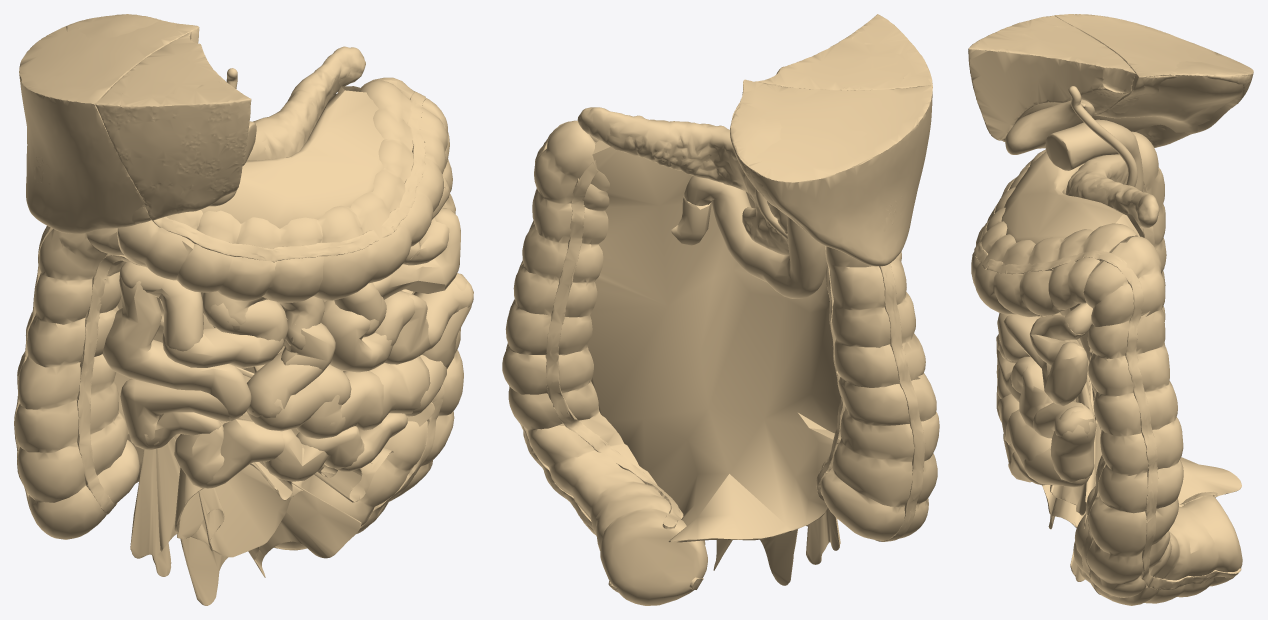
Rendered from digestif-abdomen.hi.glb.
3 views of the same model, side by side, from view 1: azimuth 30°, elevation 25°; view 2: azimuth 150°, elevation 25°; view 3: azimuth 270°, elevation 25° (orthographic). The views are drawn at different scales.
Visible parts, largest first — view 1: FJ2572, FJ2566, FJ3396, FJ2409, FJ2821, FJ3398, FJ2621, FJ2567, FJ2570, FJ2568, FJ1895, FJ2574 (+27 smaller); view 2: FJ3398, FJ2567, FJ2409, FJ2566, FJ2821, FJ2573, FJ2569, FJ1895, FJ2629, FJ2570, FJ2822, FJ3396 (+1 smaller); view 3: FJ2567, FJ2821, FJ2409, FJ2572, FJ3398, FJ2570, FJ2623, FJ2573, FJ2822, FJ3396, FJ1895, FJ2817 (+17 smaller).
Part boxes in pixels (<box>): FJ2572: <box>117,80,447,302</box>; FJ2566: <box>14,228,139,539</box>; FJ3396: <box>130,289,434,605</box>; FJ2409: <box>19,16,199,233</box>; FJ2821: <box>95,31,251,220</box>; FJ3398: <box>114,86,384,483</box>; FJ2621: <box>102,271,251,420</box>; FJ2567: <box>275,77,463,548</box>; FJ2570: <box>14,91,425,511</box>; FJ2568: <box>76,254,444,550</box>; FJ1895: <box>247,47,365,160</box>; FJ2574: <box>120,379,242,449</box>; FJ3398: <box>588,139,841,542</box>; FJ2567: <box>502,121,707,605</box>; FJ2409: <box>732,79,932,266</box>; FJ2566: <box>820,246,939,540</box>; FJ2821: <box>755,14,932,90</box>; FJ2573: <box>683,176,826,298</box>; FJ2569: <box>545,160,845,529</box>; FJ1895: <box>577,107,789,255</box>; FJ2629: <box>580,107,789,255</box>; FJ2570: <box>506,120,925,592</box>; FJ2822: <box>730,86,902,242</box>; FJ3396: <box>713,508,840,585</box>; FJ2567: <box>1073,236,1242,605</box>; FJ2821: <box>968,15,1135,141</box>; FJ2409: <box>1054,14,1253,138</box>; FJ2572: <box>971,149,1137,316</box>; FJ3398: <box>1001,151,1241,504</box>; FJ2570: <box>974,160,1241,589</box>; FJ2623: <box>1003,314,1087,405</box>; FJ2573: <box>1045,119,1143,191</box>; FJ2822: <box>1112,36,1251,147</box>; FJ3396: <box>1037,309,1101,581</box>; FJ1895: <box>1066,154,1159,226</box>; FJ2817: <box>1005,99,1094,154</box>.
Size of the model in its own units: 0.2443 by 0.2962 by 0.1544.
